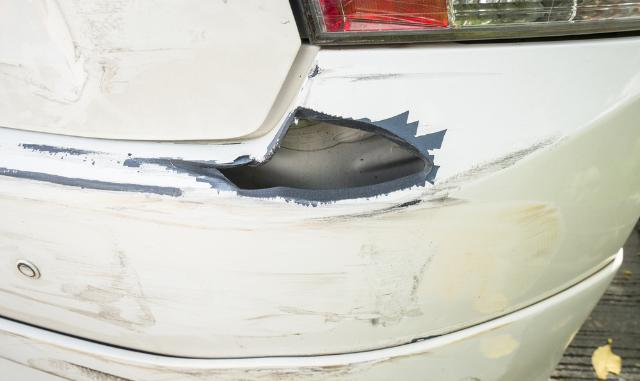crack: (220, 115, 431, 193)
scratch: (0, 133, 577, 359), (0, 316, 530, 381), (309, 63, 481, 83)
